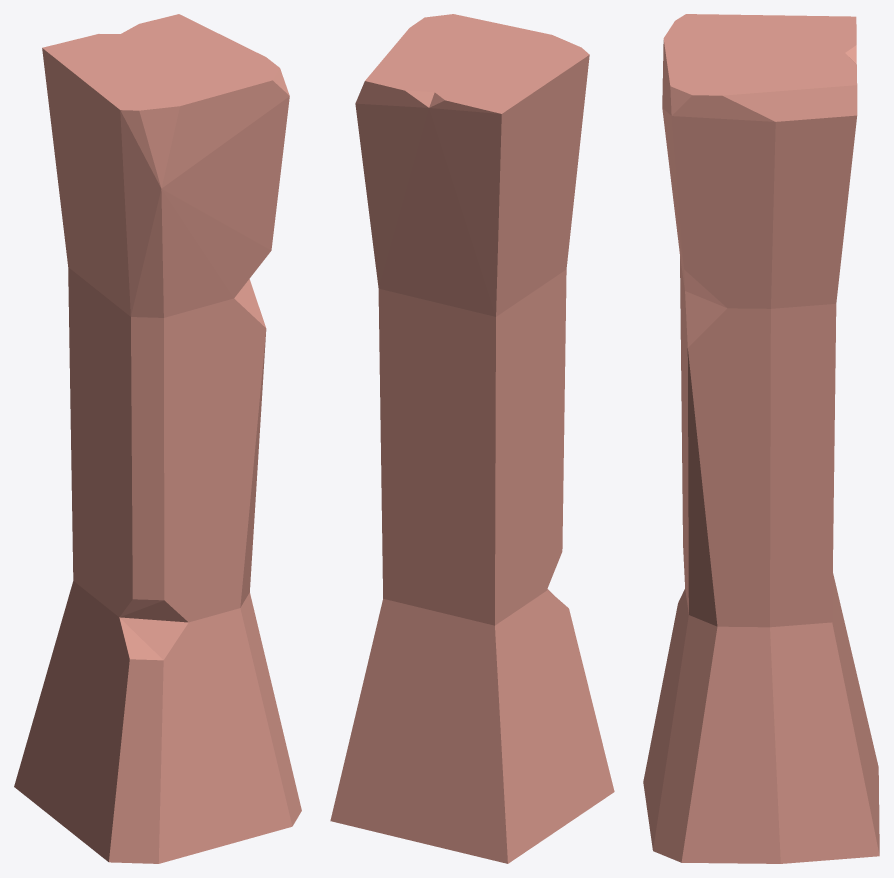
Rendered from Plane_019_Vlad.fbx.
The picture shows the model from 3 angles, left to right: view 1: azimuth 30°, elevation 25°; view 2: azimuth 150°, elevation 25°; view 3: azimuth 270°, elevation 25°; orthographic projection. The views are drawn at different scales.
Parts seen in each view (by area): view 1: Plane.019; view 2: Plane.019; view 3: Plane.019.
Part boxes in pixels (x1=…): Plane.019: x1=14, y1=14, x2=301, y2=863; Plane.019: x1=330, y1=14, x2=614, y2=863; Plane.019: x1=643, y1=14, x2=879, y2=863.
Size of the model in its own units: 113 by 400 by 113.
